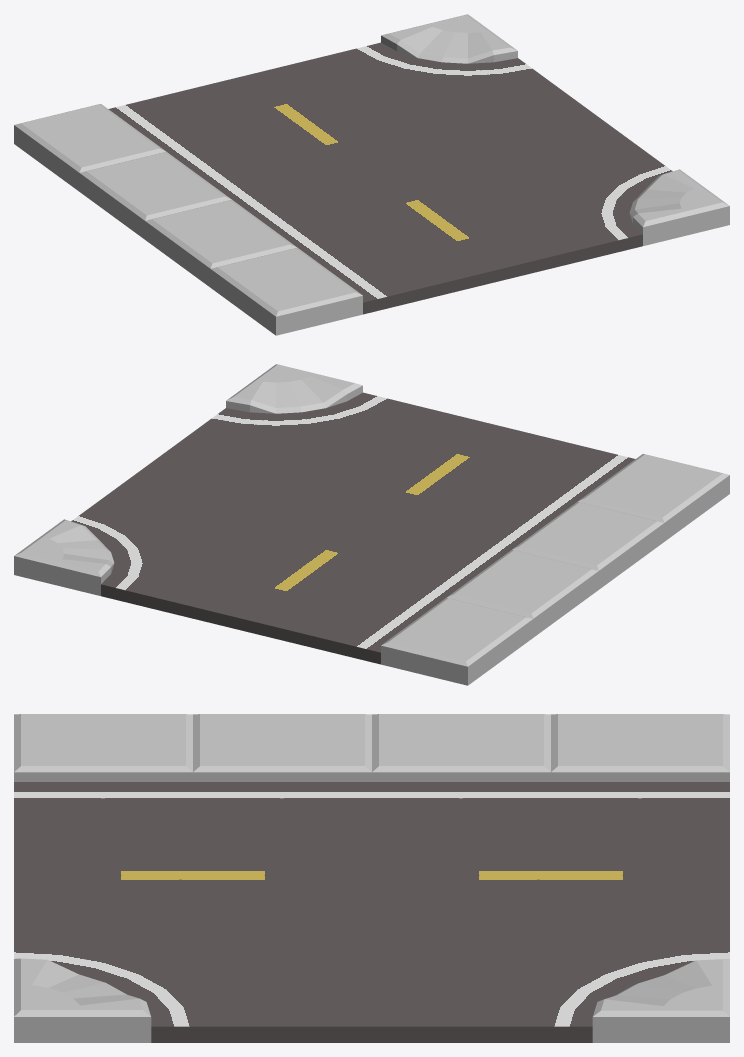
File: road_3way.obj
3 views of the same model, one above another, from view 1: azimuth 30°, elevation 25°; view 2: azimuth 150°, elevation 25°; view 3: azimuth 270°, elevation 25° (orthographic). The views are drawn at different scales.
Visible parts, largest first — view 1: inter_3way1-col; view 2: inter_3way1-col; view 3: inter_3way1-col.
Part boxes in pixels (left/top/right/bottom): inter_3way1-col: left=14, top=14, right=729, bottom=335; inter_3way1-col: left=14, top=364, right=729, bottom=685; inter_3way1-col: left=14, top=714, right=729, bottom=1042.
Bounding box in the file's own units: 10 × 0.4638 × 10.
Materials: 4 (3 with a texture image).
